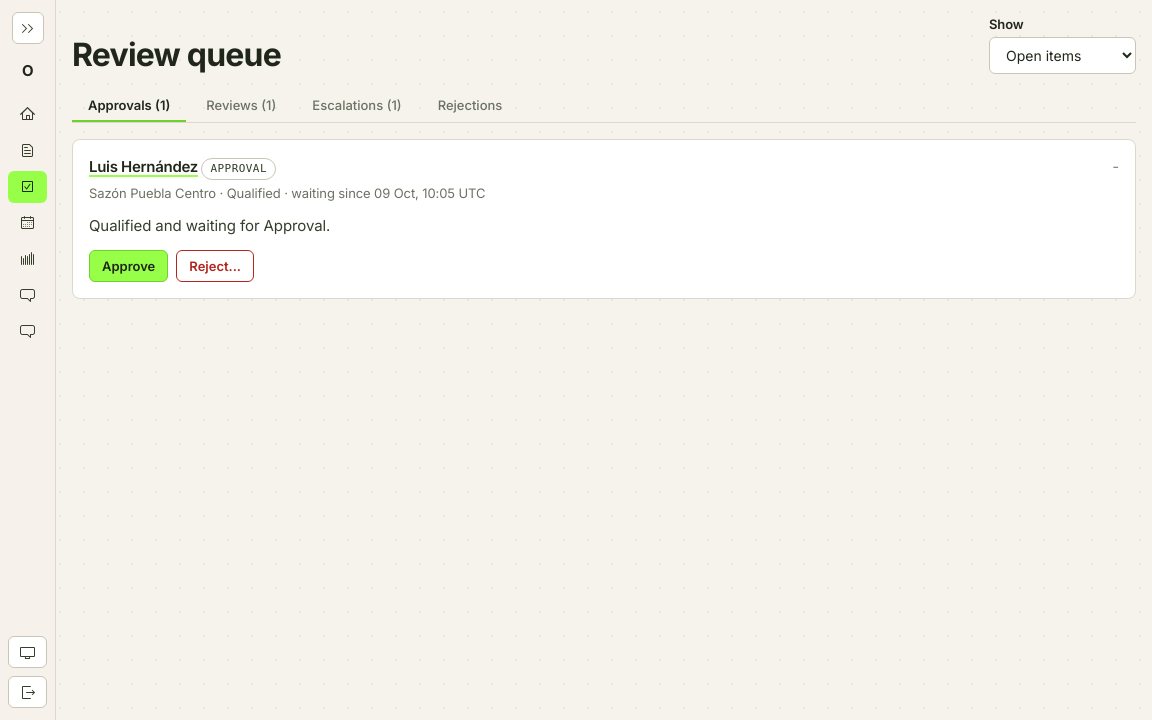
Scenario: Review queue states › shows the skeleton, not the open items, when Show switches to resolved
Check: the button "Approve" is shown, box [89, 250, 168, 282]
Select "Resolved items" in the dropdown labelled "Show": (1062, 55) [989, 37, 1136, 74]
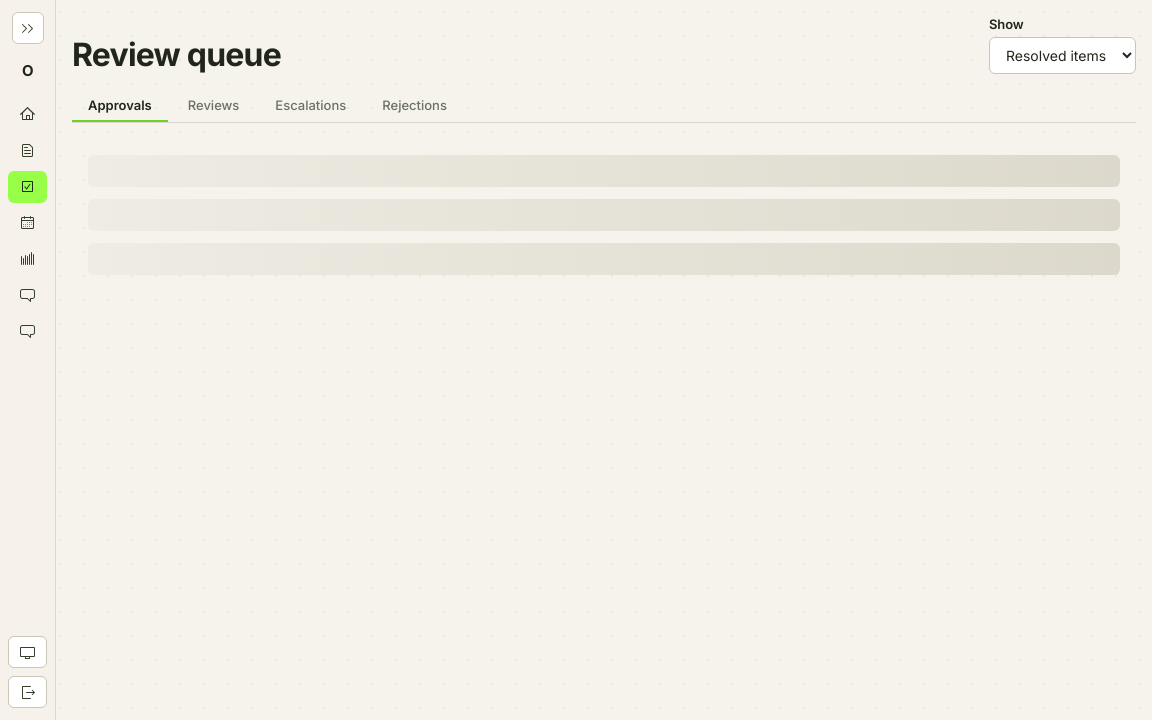
Check: the button "Reject..." is not shown
Check: the button "Approve" is gone
